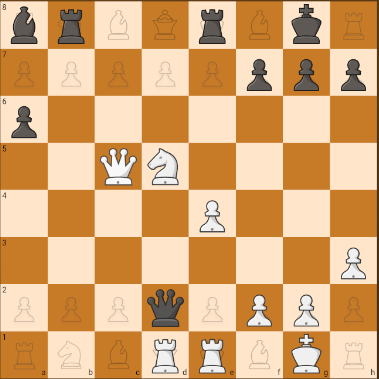bb: (3, 2, 47, 46)
bk: (144, 285, 188, 329), (288, 2, 327, 47)
bp: (1, 98, 46, 142), (332, 54, 378, 94), (239, 50, 281, 93), (286, 51, 326, 94)
br: (192, 5, 234, 47), (53, 4, 92, 48)
wk: (285, 334, 329, 377)
wp: (236, 285, 282, 330), (284, 285, 329, 331), (331, 238, 377, 283)
wq: (96, 145, 139, 188), (144, 144, 183, 188)
wr: (194, 194, 231, 235), (147, 337, 184, 376), (196, 339, 232, 376)
